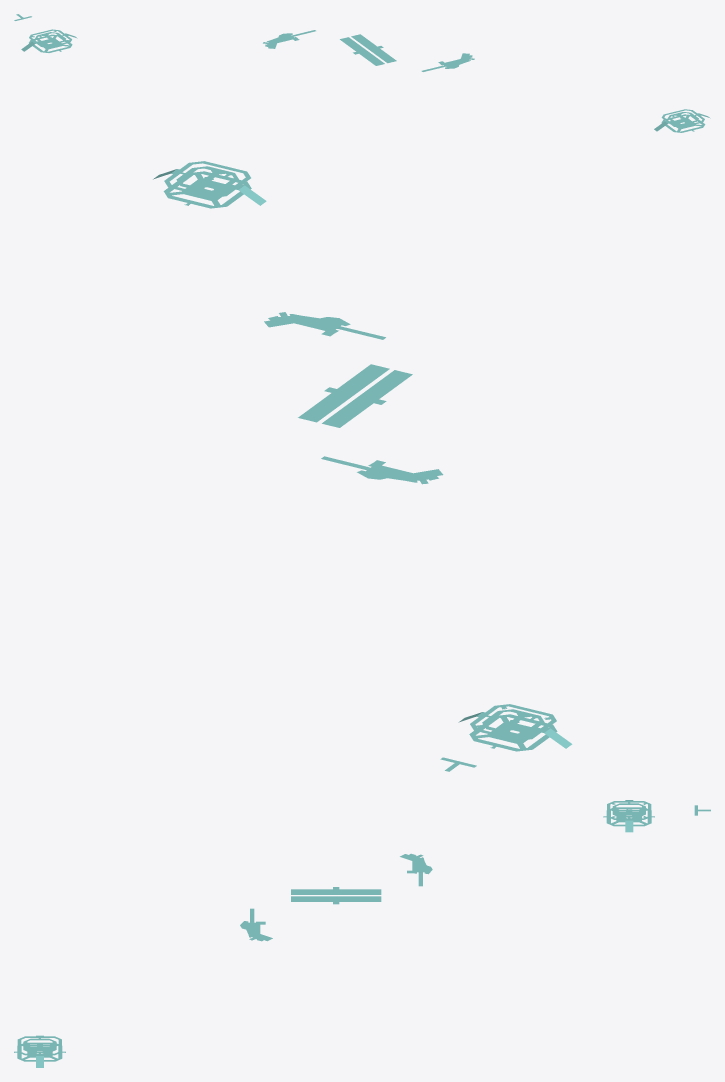
The model's file is cluster_6.fbx.
3 views of the same model, one above another, from view 1: azimuth 30°, elevation 25°; view 2: azimuth 150°, elevation 25°; view 3: azimuth 270°, elevation 25° (orthographic). The views are drawn at different scales.
Visible parts, largest first — view 1: cluster_6; view 2: cluster_6; view 3: cluster_6.
Part boxes in pixels (x1,y1,x2,y2): cluster_6: [14, 14, 710, 132]; cluster_6: [153, 161, 572, 771]; cluster_6: [14, 800, 710, 1067].
Bounding box in the file's own units: 1167966 × 81570 × 1285306.
